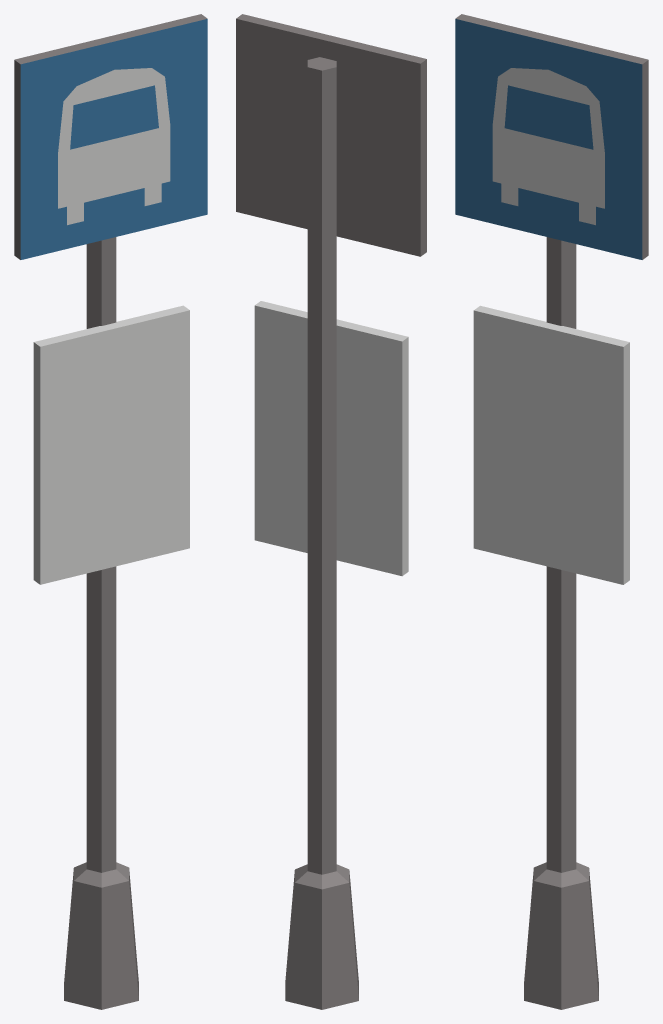
Rendered from props-bus-stop-sign.glb.
The picture shows the model from 3 angles, left to right: view 1: azimuth 30°, elevation 25°; view 2: azimuth 150°, elevation 25°; view 3: azimuth 330°, elevation 25°; orthographic projection.
Visible parts, largest first — view 1: bus-stop-sign; view 2: bus-stop-sign; view 3: bus-stop-sign.
Part boxes in pixels (x1=…): bus-stop-sign: x1=14, y1=14, x2=207, y2=1009; bus-stop-sign: x1=236, y1=14, x2=426, y2=1009; bus-stop-sign: x1=455, y1=14, x2=648, y2=1009.
Bounding box in the file's own units: 0.5001 × 2.45 × 0.1732.
